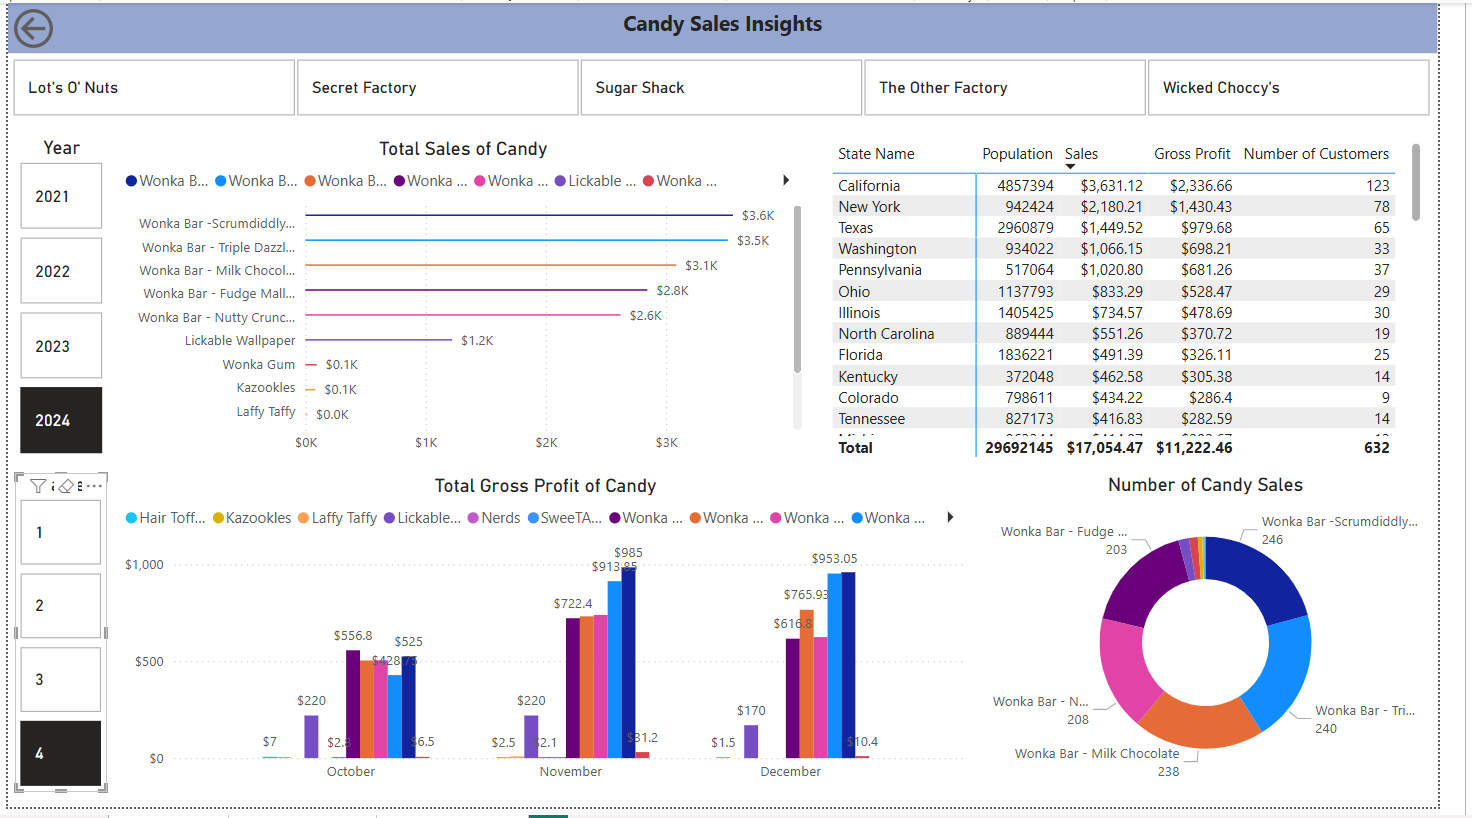

This screenshot's page, from the dashboard's own definition file:
{"tool":"powerbi","page":{"name":"Candy Sales Insights","canvas":[1280,720],"ordinal":2},"visuals":[{"type":"clusteredBarChart","title":"Total Sales of Candy","fields":{"Y":["Sum(candy_sales.sales)"],"Category":["candy_products.product_name"],"Series":["candy_products.product_name"]},"box":[99.1,119.7,616.6,291.8],"z":0},{"type":"clusteredColumnChart","title":"Total Gross Profit of Candy","fields":{"Y":["Sum(candy_sales.gross_profit)"],"Series":["candy_products.product_name"],"Category":["date_details.monthname"]},"box":[99.4,421.8,763.9,284.8],"z":1000},{"type":"donutChart","title":"Number of Candy Sales","fields":{"Y":["CountNonNull(candy_sales.sales)"],"Category":["candy_products.product_name"]},"box":[875.4,421.2,395,284.9],"z":2000},{"type":"advancedSlicerVisual","title":"Quarter","fields":{"Values":["date_details.quarter"]},"box":[6.3,420.9,82.4,285.7],"z":3000},{"type":"advancedSlicerVisual","title":"Year","fields":{"Values":["date_details.year"]},"box":[6.3,119.1,83.3,291.9],"z":4000},{"type":"textbox","box":[0,0,1280,45.4],"z":5000},{"type":"advancedSlicerVisual","title":"Factory","fields":{"Values":["candy_factories.factory"]},"box":[0,45.3,1280.2,60.5],"z":6000},{"type":"actionButton","box":[0,0,61.8,45.7],"z":7000},{"type":"pivotTable","title":"Total Sales of Candy","fields":{"Rows":["location_details.state_name"],"Values":["Sum(location_details.population)","Sum(candy_sales.sales)","Sum(candy_sales.gross_profit)","Count(candy_sales.customer_id)"]},"box":[733.6,119.7,536.8,291.8],"z":8000}]}

Visuals, with their boxes on the page's 1280x720 design canvas (x1, y1, x2, y2). These are canvas units, not pixel positions in the 1472x818 screenshot, which may show the page scaled, cropped or inside an application window:
"Total Sales of Candy" clusteredBarChart: 99, 120, 716, 412
"Total Gross Profit of Candy" clusteredColumnChart: 99, 422, 863, 707
"Number of Candy Sales" donutChart: 875, 421, 1270, 706
"Quarter" advancedSlicerVisual: 6, 421, 89, 707
"Year" advancedSlicerVisual: 6, 119, 90, 411
textbox: 0, 0, 1280, 45
"Factory" advancedSlicerVisual: 0, 45, 1280, 106
actionButton: 0, 0, 62, 46
"Total Sales of Candy" pivotTable: 734, 120, 1270, 412
